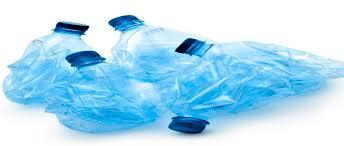plastic: (3, 16, 344, 130)
